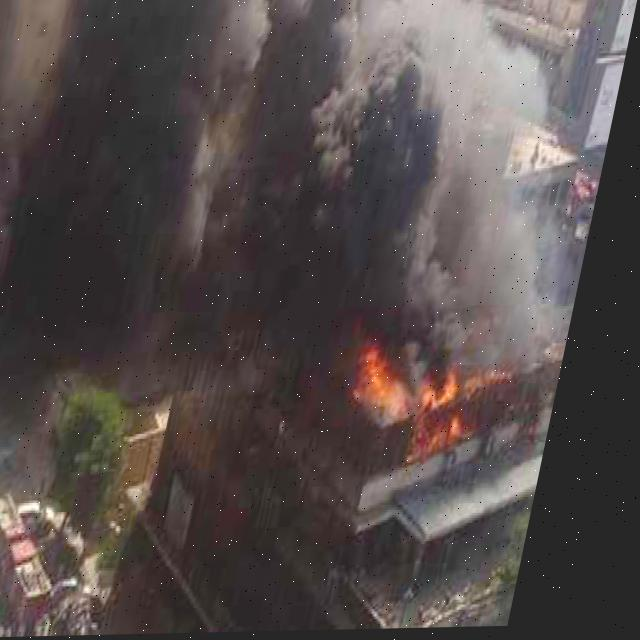Fire: (356, 319, 542, 456)
